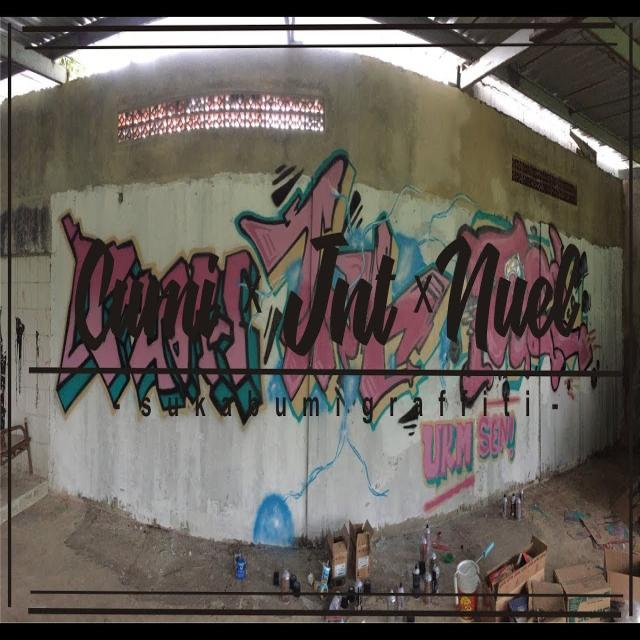-: (55, 152, 602, 424), (418, 396, 520, 512)
